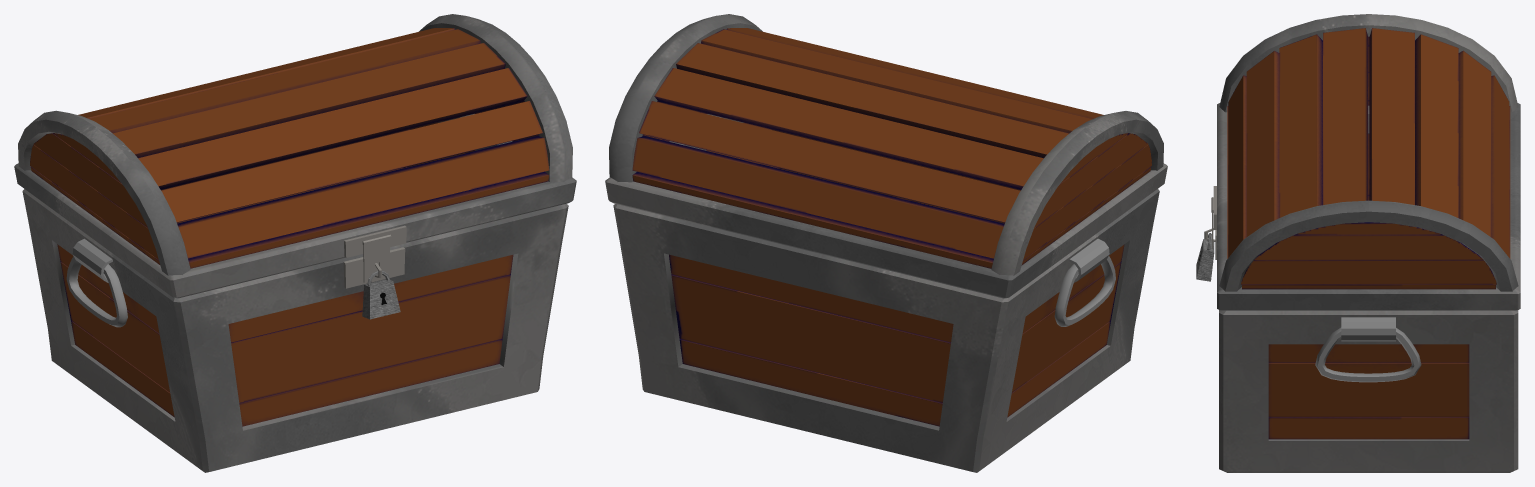
Rendered from Chest.fbx.
3 renders of one model, left to right at view 1: azimuth 30°, elevation 25°; view 2: azimuth 150°, elevation 25°; view 3: azimuth 270°, elevation 25°, orthographic. The views are drawn at different scales.
Parts seen in each view (by area): view 1: Wood_Top, Metal_Trim, Wood, Top_Base_Metal_Edge, R_Top_Metal_Edge, R_Side_Top_Wood, L_Top_Metal_Edge, R_Handle, Lock_Base, Lock_Bottom_Base, Lock_Hinge_Latch, R_Handle_Loop (+1 smaller); view 2: Wood_Top, Metal_Trim, Wood, Top_Base_Metal_Edge, R_Top_Metal_Edge, R_Side_Top_Wood, L_Top_Metal_Edge, R_Handle, R_Handle_Loop; view 3: Wood_Top, Metal_Trim, Wood, L_Side_Top_Wood, Top_Base_Metal_Edge, L_Top_Metal_Edge, R_Top_Metal_Edge, L_Handle, L_Handle_Loop, Lock_Base.
Boxes of the visible parts, x1=… form: Wood_Top: x1=78, y1=28, x2=549, y2=268; Metal_Trim: x1=22, y1=189, x2=568, y2=472; Wood: x1=57, y1=122, x2=513, y2=426; Top_Base_Metal_Edge: x1=14, y1=114, x2=576, y2=298; R_Top_Metal_Edge: x1=18, y1=110, x2=190, y2=275; R_Side_Top_Wood: x1=30, y1=133, x2=159, y2=264; L_Top_Metal_Edge: x1=419, y1=14, x2=572, y2=182; R_Handle: x1=66, y1=256, x2=127, y2=327; Lock_Base: x1=362, y1=279, x2=400, y2=319; Lock_Bottom_Base: x1=343, y1=247, x2=405, y2=288; Lock_Hinge_Latch: x1=362, y1=234, x2=391, y2=282; R_Handle_Loop: x1=72, y1=238, x2=112, y2=282; Wood_Top: x1=632, y1=28, x2=1103, y2=268; Metal_Trim: x1=613, y1=189, x2=1159, y2=472; Wood: x1=669, y1=123, x2=1124, y2=426; Top_Base_Metal_Edge: x1=605, y1=114, x2=1167, y2=298; R_Top_Metal_Edge: x1=991, y1=111, x2=1163, y2=275; R_Side_Top_Wood: x1=1021, y1=133, x2=1151, y2=265; L_Top_Metal_Edge: x1=609, y1=14, x2=762, y2=182; R_Handle: x1=1054, y1=256, x2=1115, y2=326; R_Handle_Loop: x1=1069, y1=238, x2=1109, y2=282; Wood_Top: x1=1227, y1=28, x2=1510, y2=258; Metal_Trim: x1=1219, y1=310, x2=1518, y2=472; Wood: x1=1268, y1=134, x2=1469, y2=439; L_Side_Top_Wood: x1=1241, y1=222, x2=1496, y2=289; Top_Base_Metal_Edge: x1=1217, y1=103, x2=1520, y2=310; L_Top_Metal_Edge: x1=1219, y1=200, x2=1518, y2=291; R_Top_Metal_Edge: x1=1219, y1=14, x2=1518, y2=112; L_Handle: x1=1315, y1=327, x2=1421, y2=382; L_Handle_Loop: x1=1341, y1=317, x2=1395, y2=341; Lock_Base: x1=1196, y1=239, x2=1214, y2=281.
Bounding box in the file's own units: 10.74 × 7.32 × 7.45.
